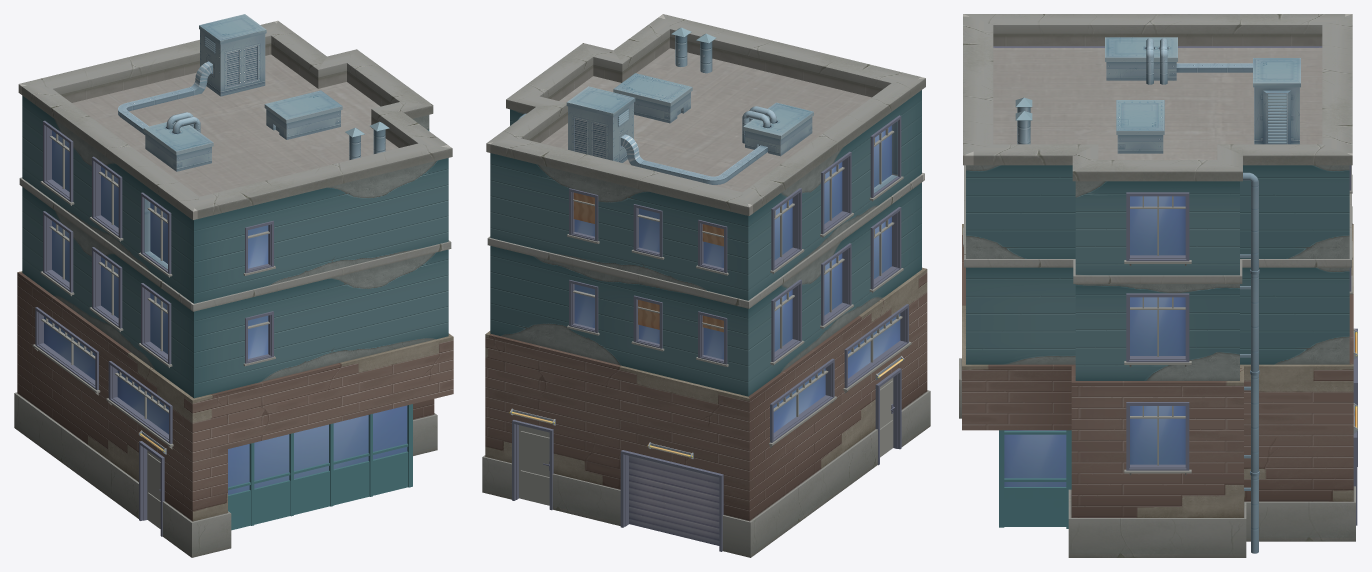
The model's file is Building_05_2.fbx.
3 renders of one model, left to right at view 1: azimuth 30°, elevation 25°; view 2: azimuth 150°, elevation 25°; view 3: azimuth 270°, elevation 25°, orthographic. The views are drawn at different scales.
Visible parts, largest first — view 1: polySurface2642; view 2: polySurface2642; view 3: polySurface2642.
Part boxes in pixels (x1,y1,x2,y2): polySurface2642: [14, 14, 453, 557]; polySurface2642: [482, 14, 930, 557]; polySurface2642: [959, 14, 1357, 557].
Bounding box in the file's own units: 921 × 1142 × 956.
